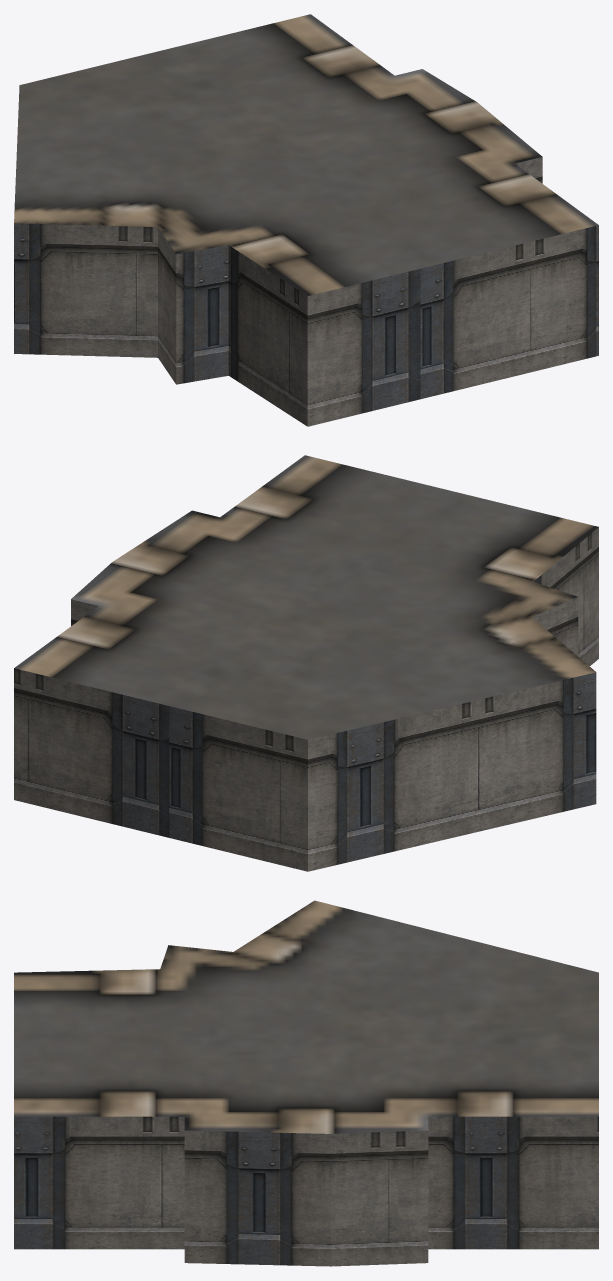
File: building_heavy_41.glb
3 renders of one model, top to bottom at view 1: azimuth 30°, elevation 25°; view 2: azimuth 150°, elevation 25°; view 3: azimuth 270°, elevation 25°, orthographic.
Parts seen in each view (by area): view 1: buildings/saxarba/building_heavy/building_heavy_41; view 2: buildings/saxarba/building_heavy/building_heavy_41; view 3: buildings/saxarba/building_heavy/building_heavy_41.
Part boxes in pixels (x1,y1,x2,y2): buildings/saxarba/building_heavy/building_heavy_41: (14, 14, 598, 426); buildings/saxarba/building_heavy/building_heavy_41: (14, 455, 598, 871); buildings/saxarba/building_heavy/building_heavy_41: (14, 900, 598, 1266).
Size of the model in its own units: 68 by 18 by 72.
